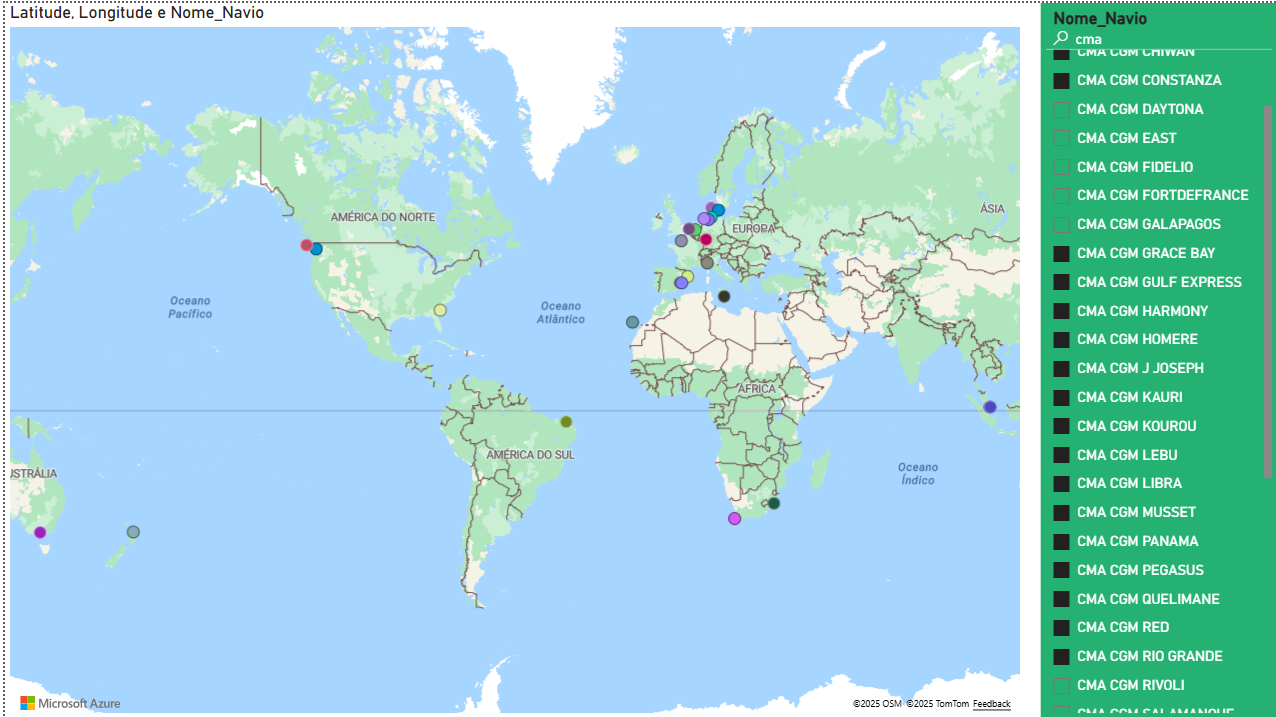

What the dashboard file says about the page in this screenshot:
{"tool":"powerbi","page":{"name":"Página 1","canvas":[1280,720],"ordinal":0},"visuals":[{"type":"azureMap","fields":{"Y":["dataset.Latitude"],"X":["dataset.Longitude"],"Series":["dataset.Nome_Navio"]},"box":[0,0,1026.8,720.5],"z":0},{"type":"slicer","fields":{"Values":["dataset.Nome_Navio"]},"box":[1042.4,0,237.6,719.9],"z":1}]}

Visuals, with their boxes in screenshot pixels (x1, y1, x2, y2), scaled from the page's 1280x720 canvas onto the 1276x717 screenshot:
azureMap - dataset.Latitude x dataset.Longitude: box=[0, 0, 1024, 716]
slicer - dataset.Nome_Navio: box=[1039, 0, 1275, 716]
